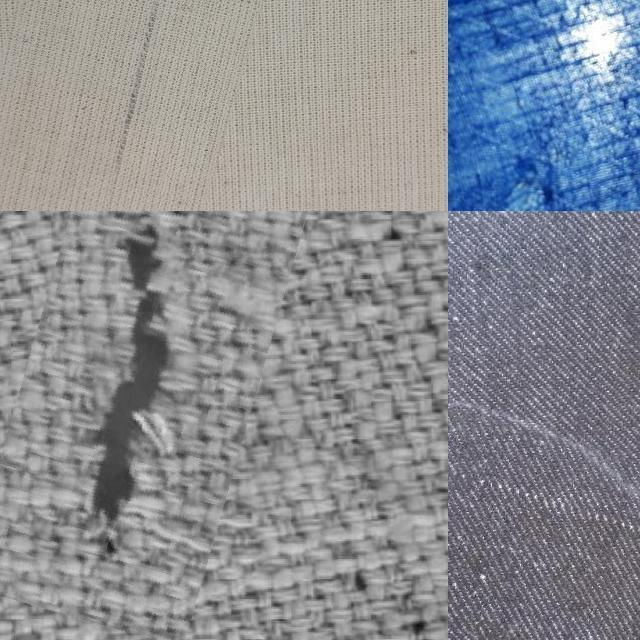other: (0, 211, 282, 636)
stains: (448, 392, 640, 640)
